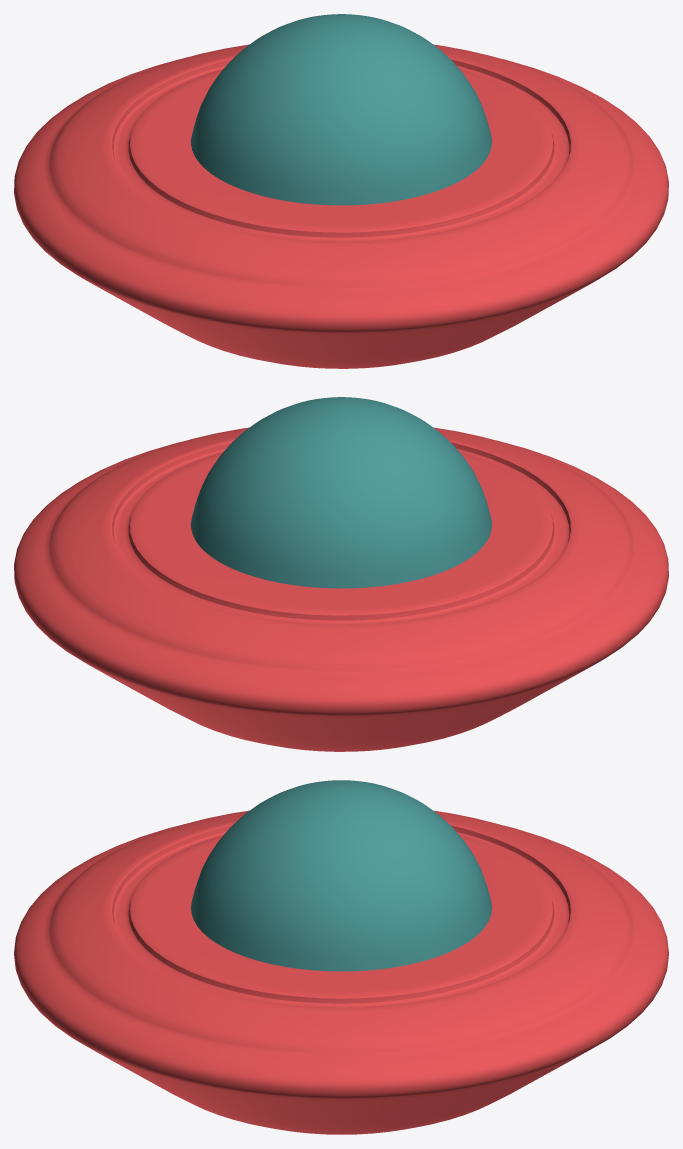
Rendered from Nave1 .fbx.
The picture shows the model from 3 angles, top to bottom: view 1: azimuth 30°, elevation 25°; view 2: azimuth 150°, elevation 25°; view 3: azimuth 270°, elevation 25°; orthographic projection.
Parts seen in each view (by area): view 1: Cylinder; view 2: Cylinder; view 3: Cylinder.
Part boxes in pixels (bbox=[...]): Cylinder: bbox=[14, 14, 668, 368]; Cylinder: bbox=[14, 397, 668, 751]; Cylinder: bbox=[14, 780, 668, 1134].
Size of the model in its own units: 199 by 92.73 by 199.
